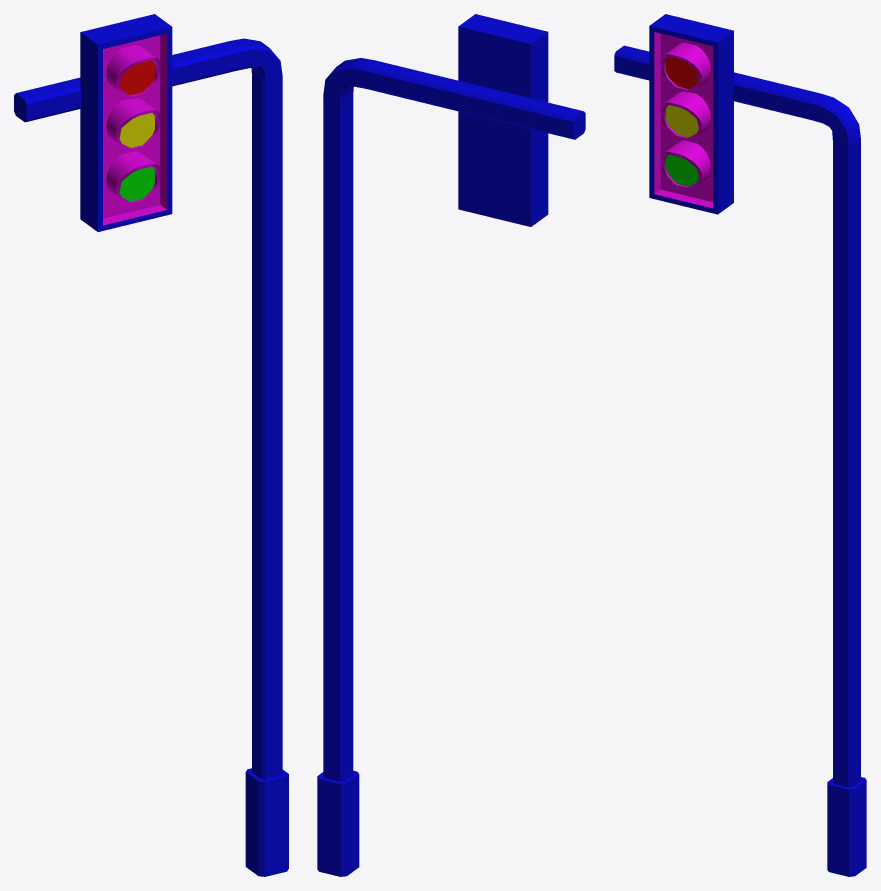
File: TrafficLightsA3.fbx
3 renders of one model, left to right at view 1: azimuth 30°, elevation 25°; view 2: azimuth 150°, elevation 25°; view 3: azimuth 330°, elevation 25°, orthographic. The views are drawn at different scales.
Parts seen in each view (by area): view 1: TrafficLightsA3; view 2: TrafficLightsA3; view 3: TrafficLightsA3.
Part boxes in pixels (bbox=[...]): TrafficLightsA3: bbox=[14, 14, 288, 876]; TrafficLightsA3: bbox=[317, 14, 585, 876]; TrafficLightsA3: bbox=[614, 14, 866, 876].
Bounding box in the file's own units: 143 × 462 × 39.2.
